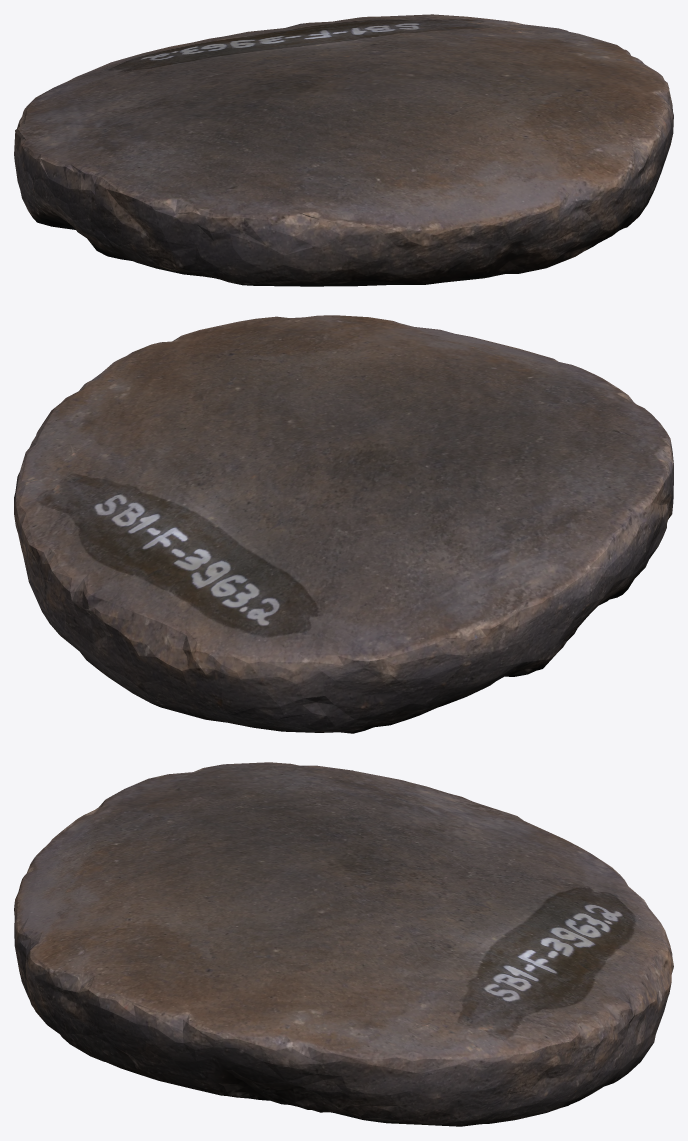
The picture shows the model from 3 angles, top to bottom: view 1: azimuth 30°, elevation 25°; view 2: azimuth 150°, elevation 25°; view 3: azimuth 270°, elevation 25°; orthographic projection. The views are drawn at different scales.
Parts seen in each view (by area): view 1: Mesh_0; view 2: Mesh_0; view 3: Mesh_0.
Part boxes in pixels (left/top/right/bottom): Mesh_0: left=14, top=14, right=673, bottom=286; Mesh_0: left=14, top=315, right=673, bottom=733; Mesh_0: left=14, top=762, right=673, bottom=1126.
Size of the model in its own units: 0.1312 by 0.0382 by 0.1318.
Materials: 1 (1 with a texture image).
